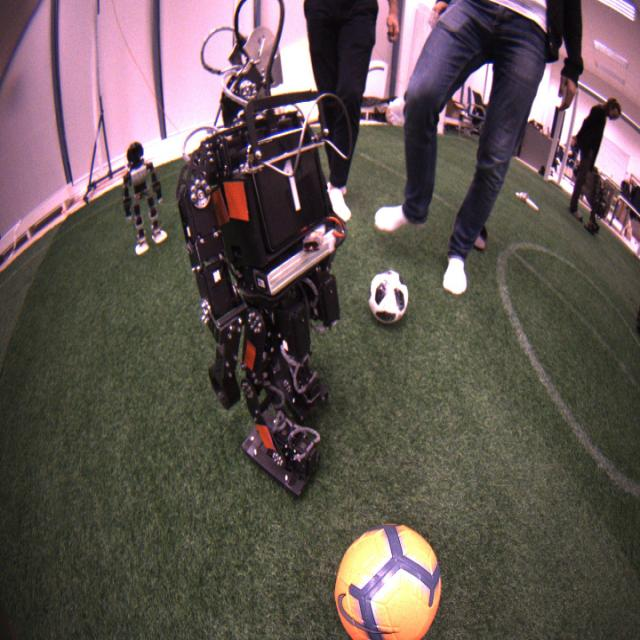ball: (335, 524, 442, 640), (370, 269, 410, 324)
goalpost: (542, 88, 570, 180)
